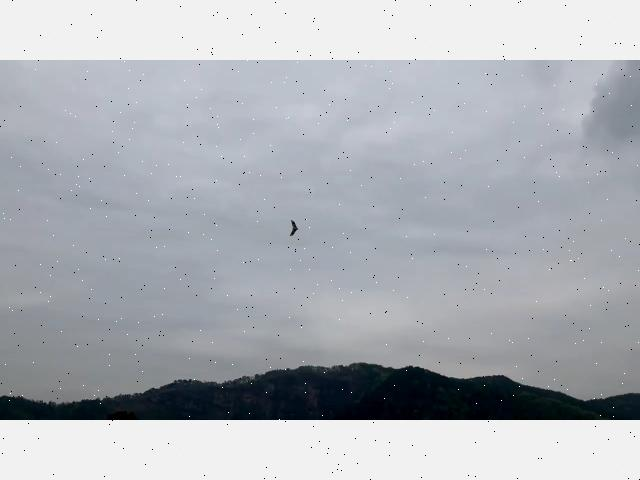Anti-Drone: (279, 214, 309, 242)
